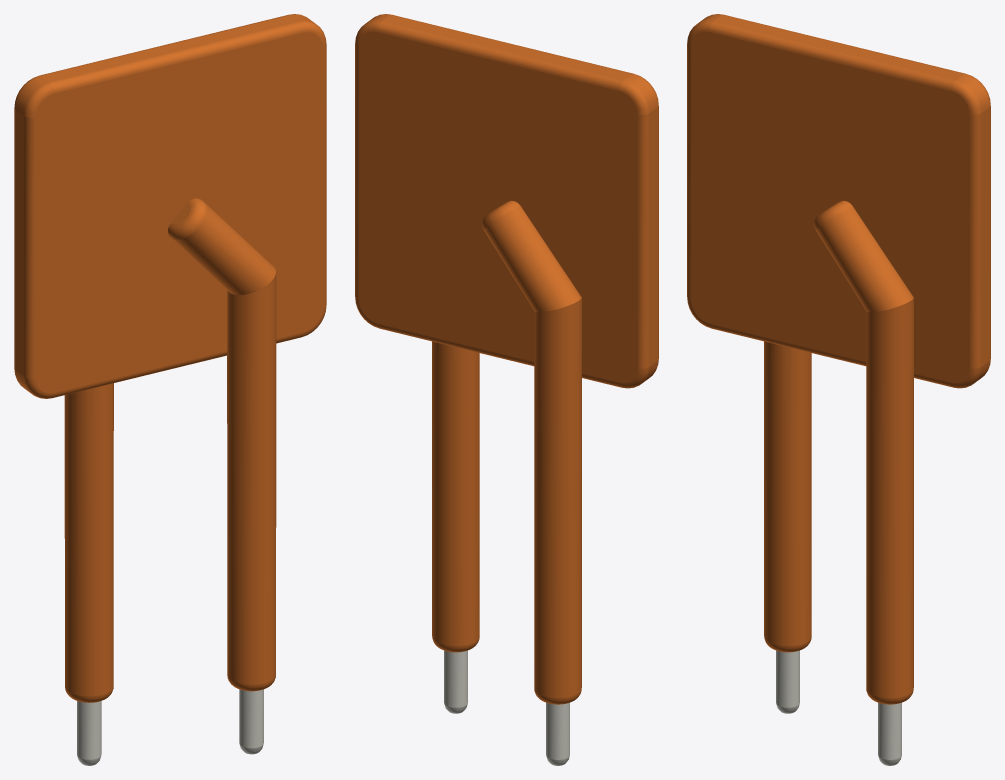
File: kc-fuse_belfuse_0zre_0zre0075ff_l11.5mm_w4.8mm.glb
The picture shows the model from 3 angles, left to right: view 1: azimuth 30°, elevation 25°; view 2: azimuth 150°, elevation 25°; view 3: azimuth 330°, elevation 25°; orthographic projection. The views are drawn at different scales.
Parts seen in each view (by area): view 1: 0.5833333333333334_0.16666666666666666_0_0, 0.6666666666666666_0.6666666666666666_0.5833333333333334_0.8; view 2: 0.5833333333333334_0.16666666666666666_0_0, 0.6666666666666666_0.6666666666666666_0.5833333333333334_0.8; view 3: 0.5833333333333334_0.16666666666666666_0_0, 0.6666666666666666_0.6666666666666666_0.5833333333333334_0.8.
Part boxes in pixels (left/top/right/bottom): 0.5833333333333334_0.16666666666666666_0_0: left=14, top=14, right=326, bottom=702; 0.6666666666666666_0.6666666666666666_0.5833333333333334_0.8: left=77, top=689, right=263, bottom=765; 0.5833333333333334_0.16666666666666666_0_0: left=355, top=14, right=658, bottom=704; 0.6666666666666666_0.6666666666666666_0.5833333333333334_0.8: left=444, top=650, right=569, bottom=765; 0.5833333333333334_0.16666666666666666_0_0: left=687, top=14, right=990, bottom=704; 0.6666666666666666_0.6666666666666666_0.5833333333333334_0.8: left=776, top=650, right=901, bottom=765.
Size of the model in its own units: 1.15 by 2.59 by 0.3516.
